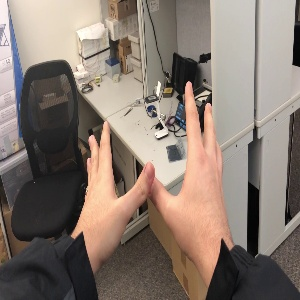hand: (155, 80, 232, 248), (78, 119, 155, 229)
